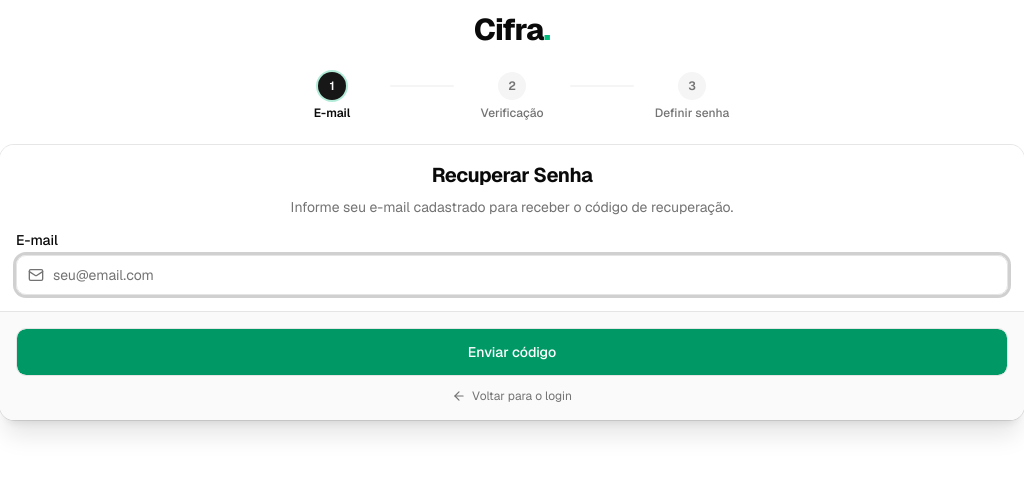
Test: RecoveryWizard Component - Testes de Integração do Fluxo de Recuperação › deve permitir retornar ao Passo 1 ao clicar em alterar e-mail no Passo 2
Type "recuperar@cifra.app" into the field labelled "E-mail" at (512, 275), box [16, 255, 1008, 295]
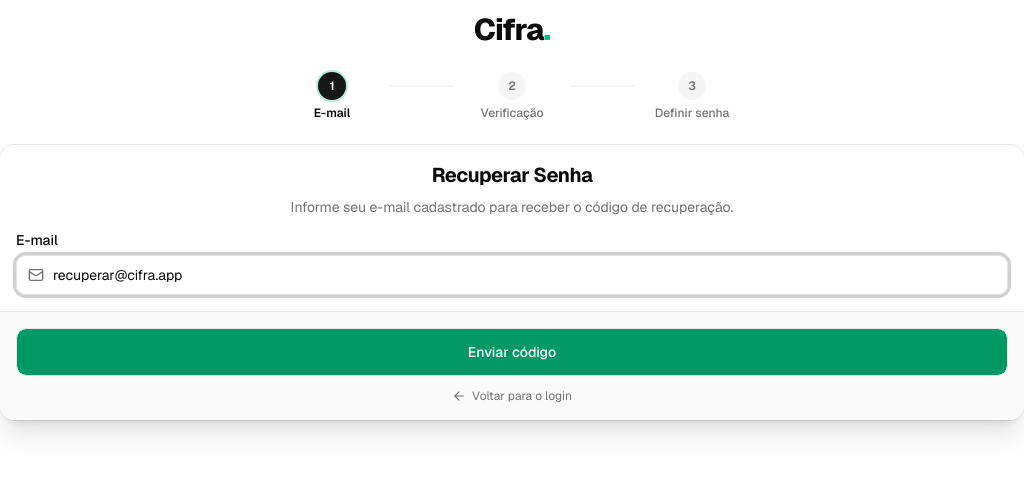
Click the button "Enviar código" at (512, 352), box [16, 328, 1008, 376]
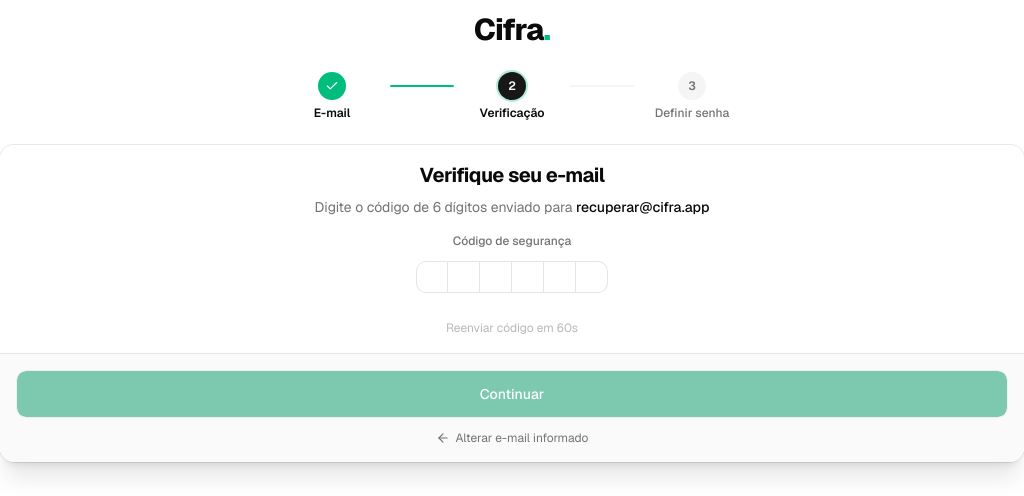
Check: the text "Verifique seu e-mail" is shown, box [420, 162, 604, 188]
Click the button "Alterar e-mail informado" at (512, 438), box [436, 430, 588, 446]
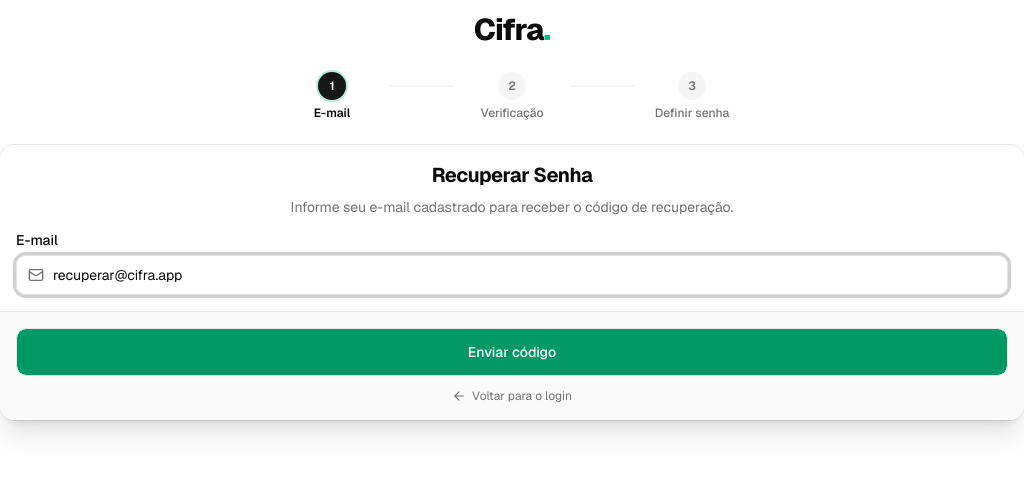
Check: the text "Recuperar Senha" is shown, box [432, 162, 592, 188]
Check: the field labelled "E-mail" holds "recuperar@cifra.app", box [16, 255, 1008, 295]
